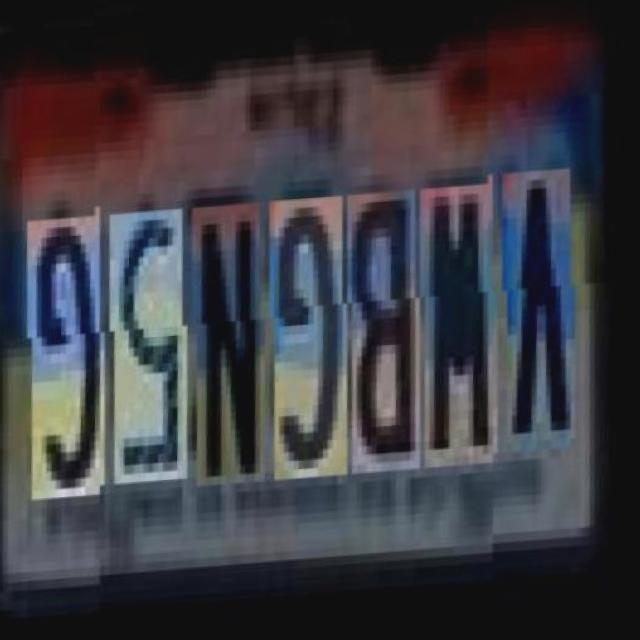5: (107, 208, 199, 484)
b: (344, 194, 431, 479)
g: (267, 198, 359, 484), (24, 204, 116, 490)
n: (189, 203, 276, 488)
v: (499, 183, 586, 468)
w: (416, 188, 509, 474)
